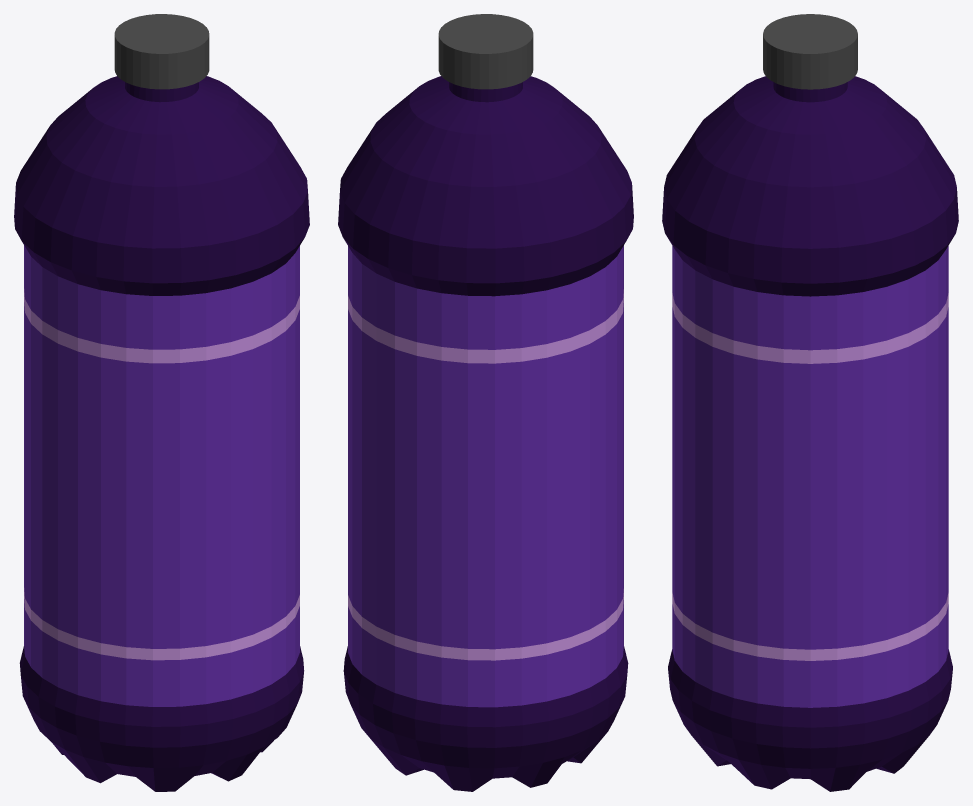
Rendered from Small Grape Drink.fbx.
3 renders of one model, left to right at view 1: azimuth 30°, elevation 25°; view 2: azimuth 150°, elevation 25°; view 3: azimuth 270°, elevation 25°, orthographic.
Parts seen in each view (by area): view 1: Small Grape Drink; view 2: Small Grape Drink; view 3: Small Grape Drink.
Part boxes in pixels (x1=…): Small Grape Drink: x1=14, y1=14, x2=309, y2=791; Small Grape Drink: x1=338, y1=14, x2=633, y2=791; Small Grape Drink: x1=662, y1=14, x2=958, y2=791.
Bounding box in the file's own units: 16.07 × 42.78 × 16.07.
Materials: 1 (1 with a texture image).
